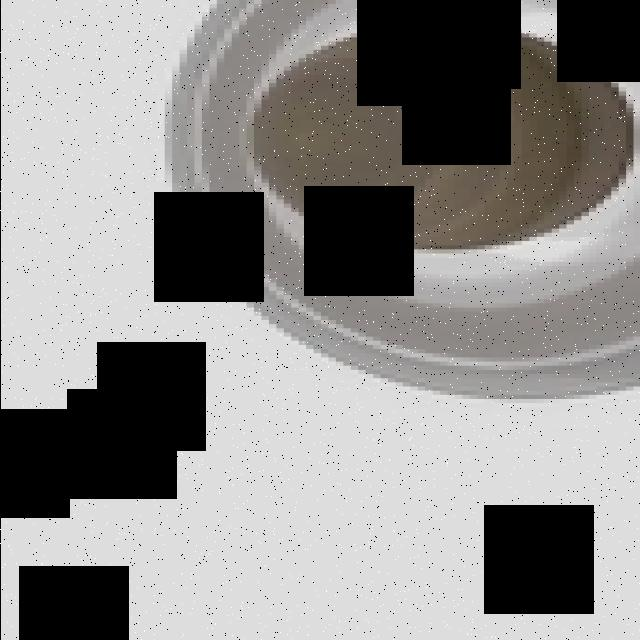Saturn: (156, 0, 640, 403)
